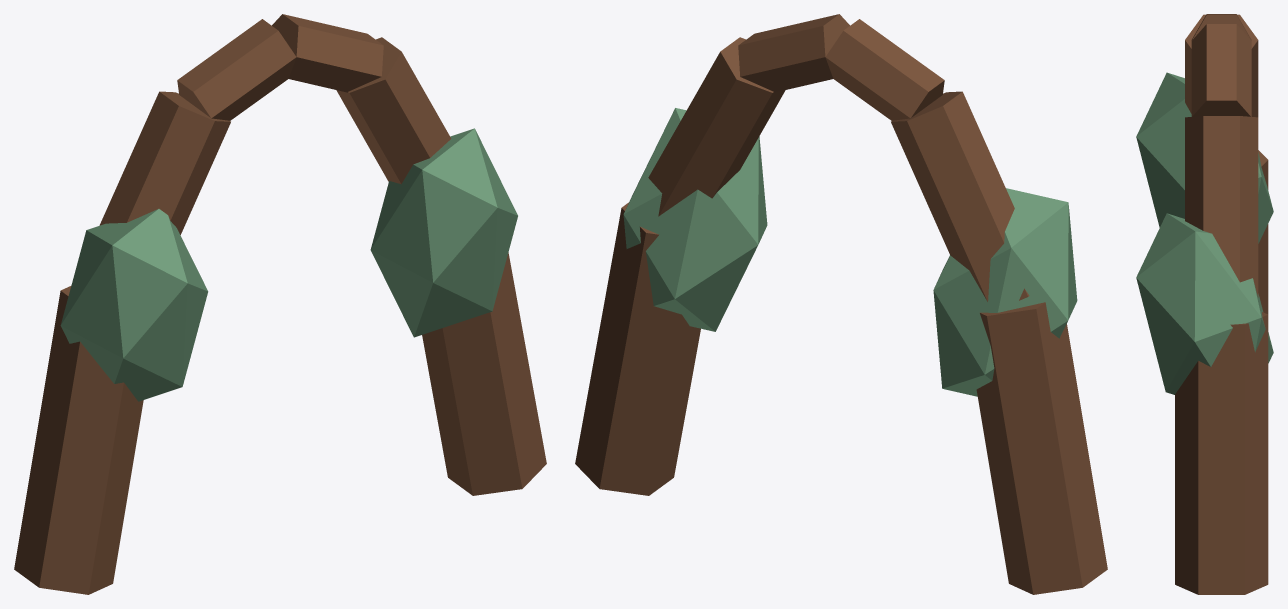
The model's file is koreneny-oblouk.glb.
3 renders of one model, left to right at view 1: azimuth 30°, elevation 25°; view 2: azimuth 150°, elevation 25°; view 3: azimuth 270°, elevation 25°, orthographic. The views are drawn at different scales.
Parts seen in each view (by area): view 1: material_785239, material_6d9978; view 2: material_785239, material_6d9978; view 3: material_785239, material_6d9978.
Boxes of the visible parts, bbox=[...] form: material_785239: bbox=[14, 14, 546, 594]; material_6d9978: bbox=[60, 128, 517, 401]; material_785239: bbox=[575, 14, 1107, 594]; material_6d9978: bbox=[623, 108, 1077, 396]; material_785239: bbox=[1175, 14, 1268, 594]; material_6d9978: bbox=[1136, 72, 1273, 394].
Size of the model in its own units: 3.28 by 3.14 by 0.8261.
